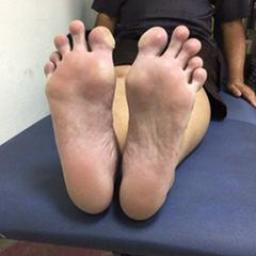Plantar View -Both Feet-: (37, 14, 209, 233)
